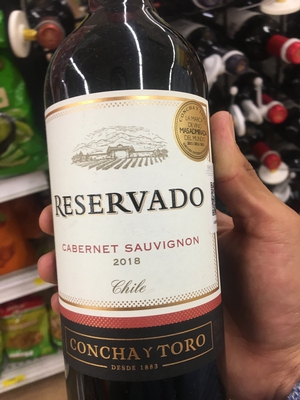reservado cabernet sauvignon: (49, 9, 237, 400)
